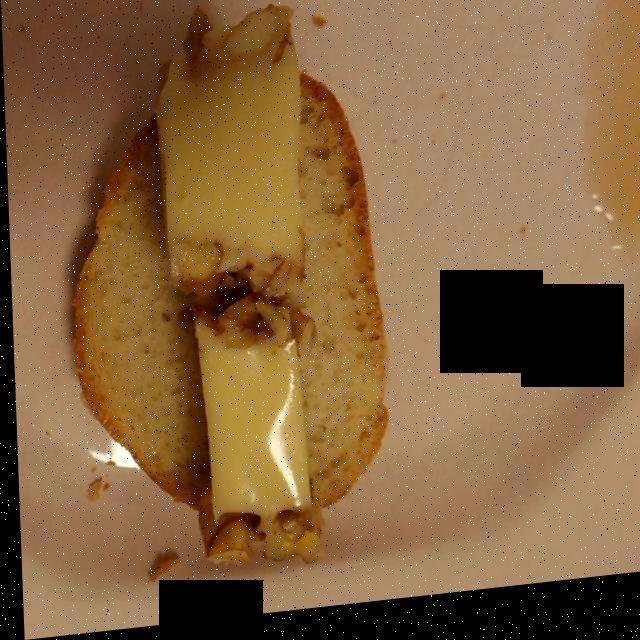bread: (78, 101, 374, 510)
